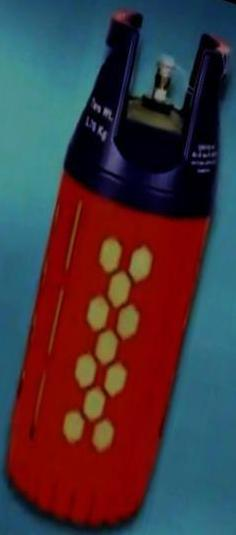cylinder: (0, 1, 236, 535)
